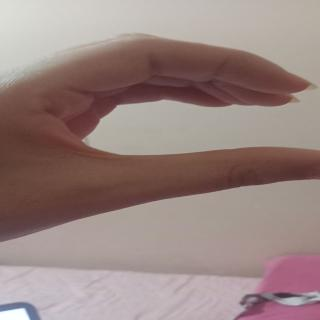JEEM: (0, 21, 320, 219)
